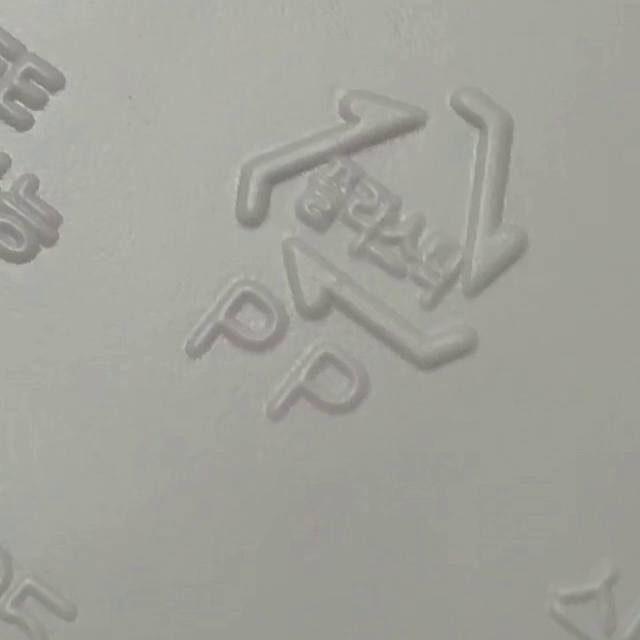Plastic: (235, 86, 527, 371)
